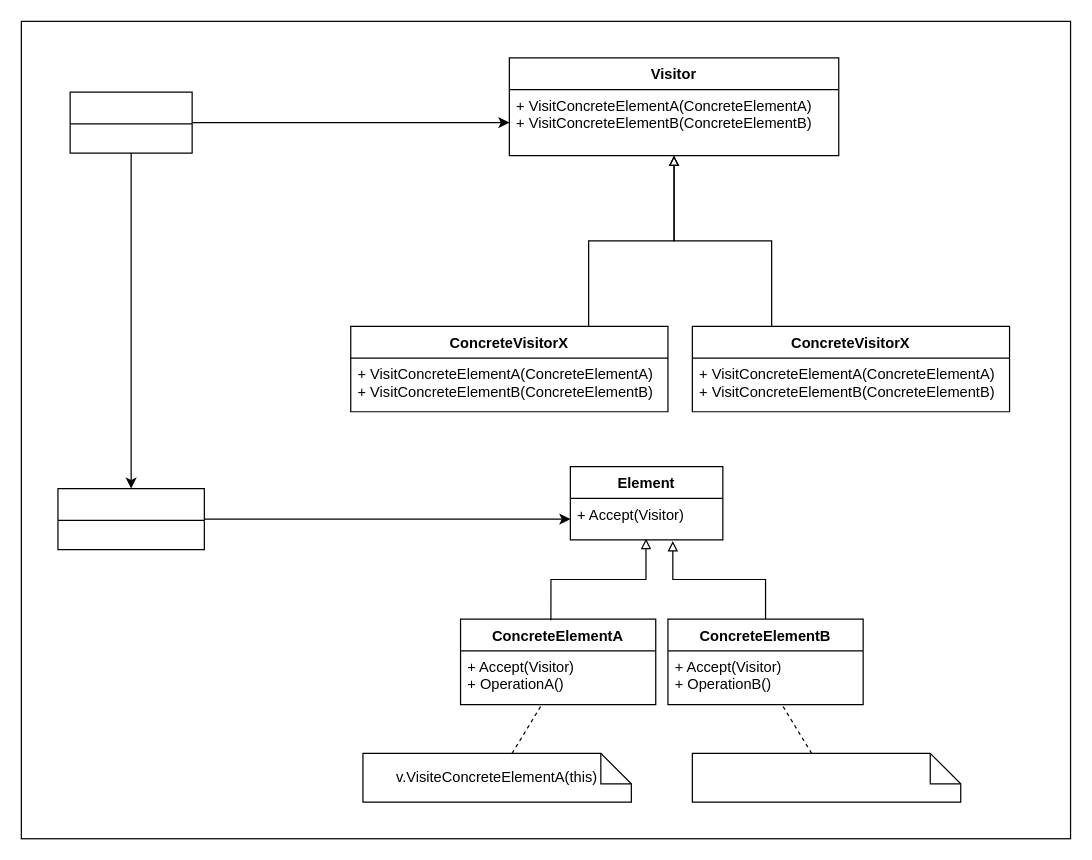
Some shapes in this 1092 by 860 pixel diagram are drawn without their labels. Each missing label, with the centre of its shape:
"Client" belongs at [130,122].
"ObjectStructure" belongs at [130,518].
"v.VisiteConcreteElementB(this)" belongs at [826,777].
